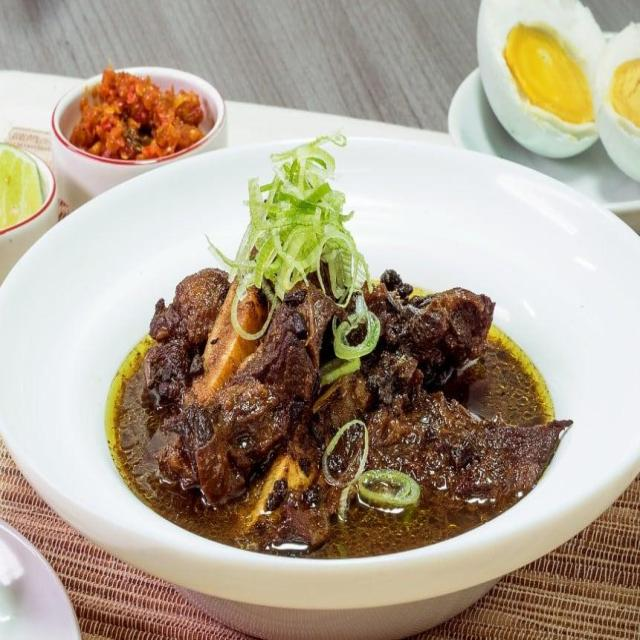Rawon: (122, 213, 548, 550)
